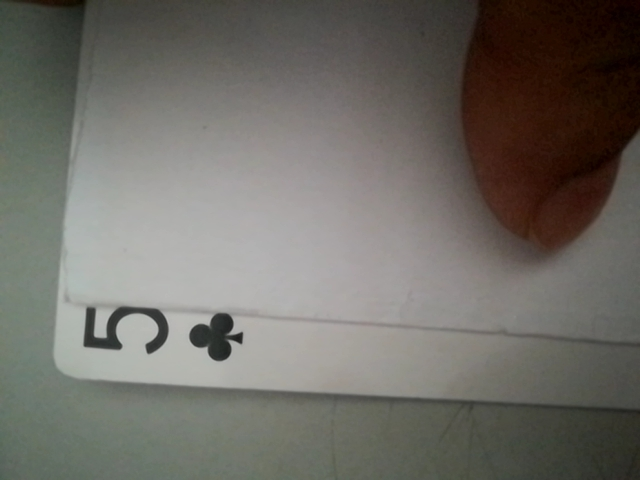mh 5: (64, 300, 250, 379)
